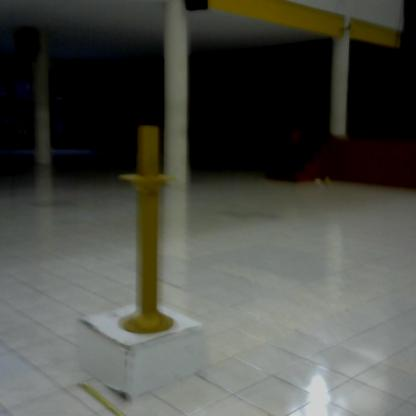pole: (119, 118, 181, 336)
